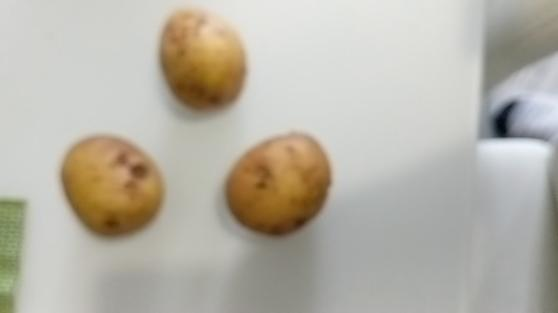potato: (53, 131, 165, 238), (227, 126, 334, 235), (158, 8, 246, 109)
